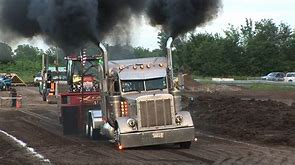smoke: (1, 1, 135, 44), (144, 1, 223, 38)
